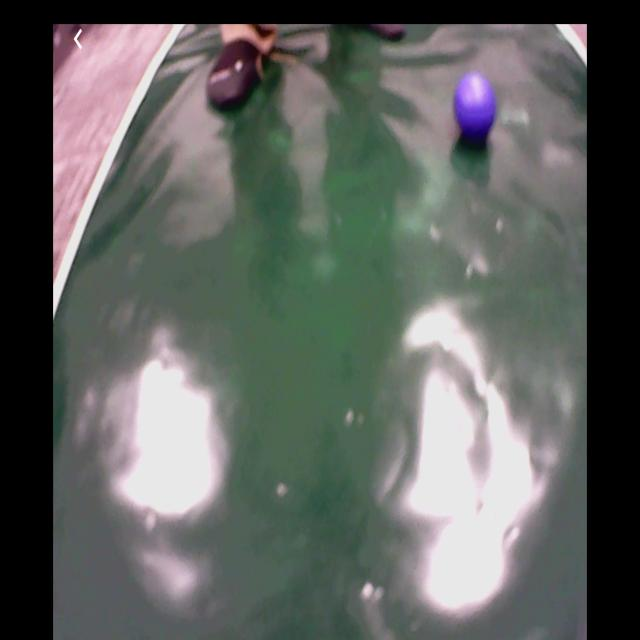ball: (455, 74, 497, 133)
